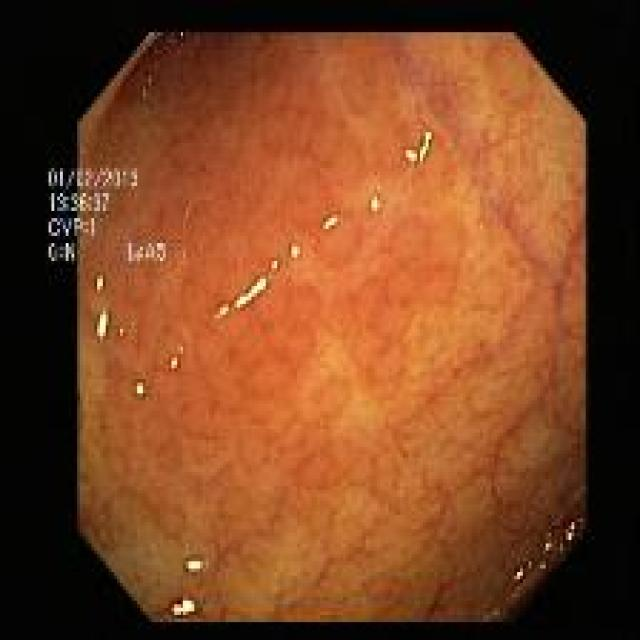ulcerative-colitis: (60, 31, 586, 623)
